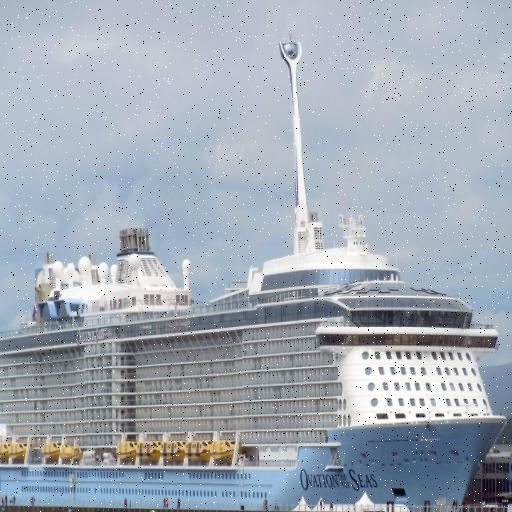cruises: (1, 32, 509, 512)
